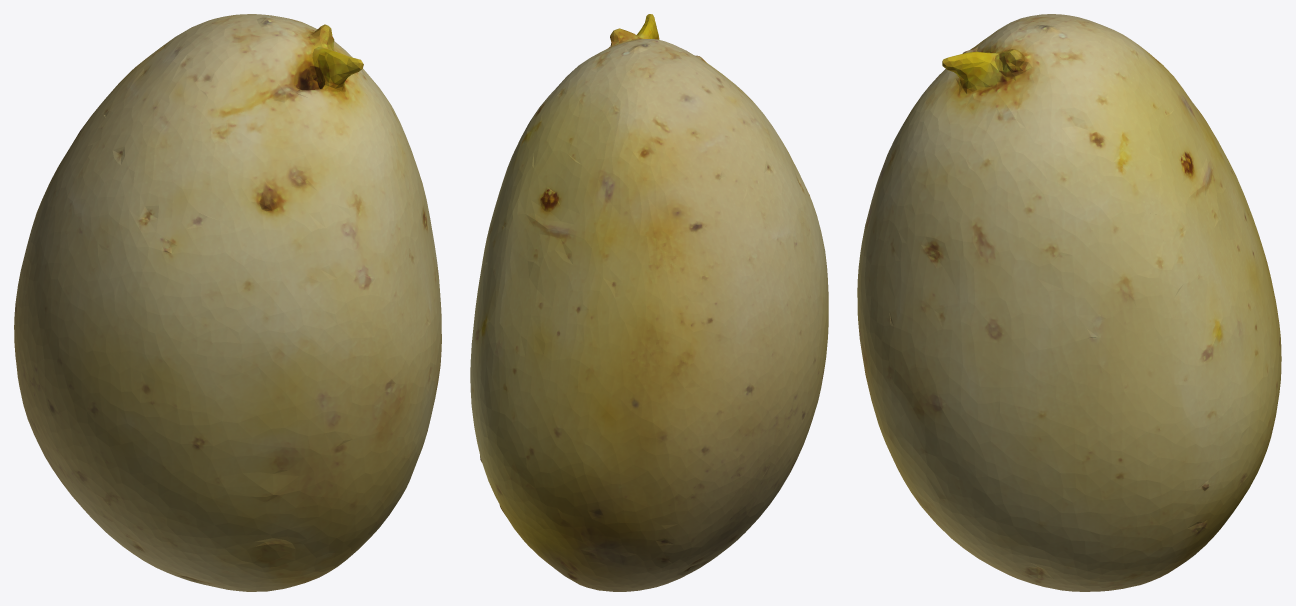
The model's file is potato_ai_mesh_4.glb.
The picture shows the model from 3 angles, left to right: view 1: azimuth 30°, elevation 25°; view 2: azimuth 150°, elevation 25°; view 3: azimuth 270°, elevation 25°; orthographic projection. The views are drawn at different scales.
Parts seen in each view (by area): view 1: world; view 2: world; view 3: world.
Boxes of the visible parts, x1,y1,x2,y2 form: world: (14, 14, 441, 591); world: (470, 14, 828, 591); world: (857, 14, 1281, 591).
Bounding box in the file's own units: 0.5018 × 0.7931 × 0.5453.
Materials: 1 (1 with a texture image).
